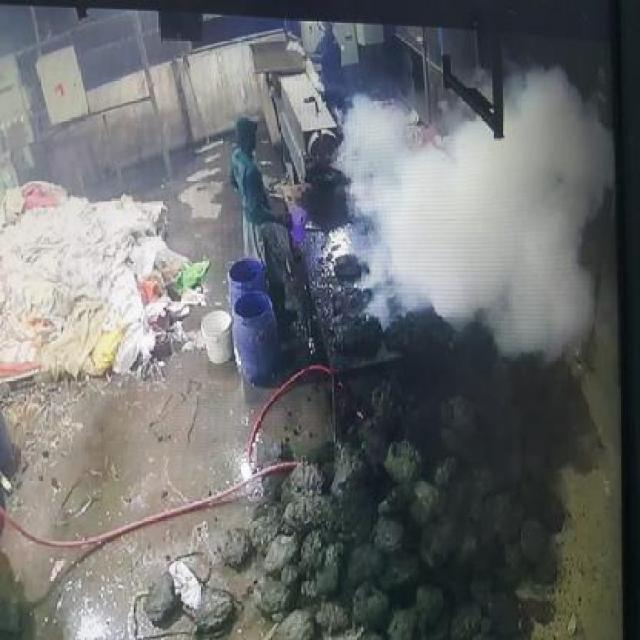fire: (342, 66, 612, 359)
